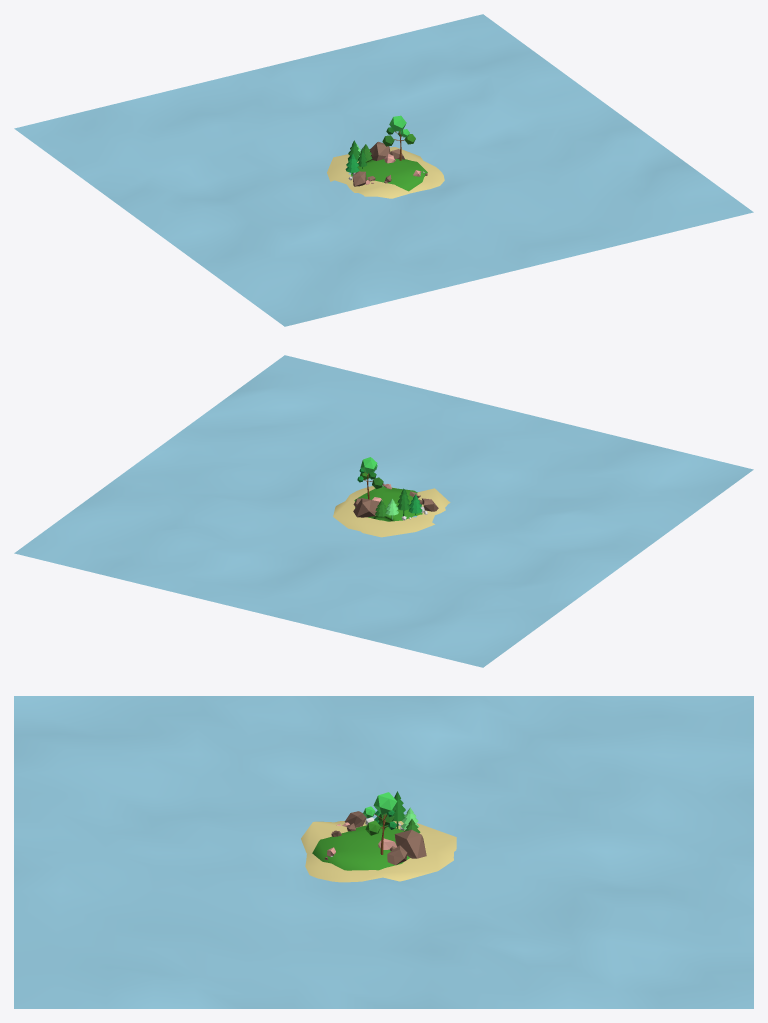
The model's file is uploads_files_2750458_Landscape.gltf.
3 renders of one model, top to bottom at view 1: azimuth 30°, elevation 25°; view 2: azimuth 150°, elevation 25°; view 3: azimuth 270°, elevation 25°, orthographic. The views are drawn at different scales.
Visible parts, largest first — view 1: Plane, Icosphere.027, Icosphere; view 2: Plane, Icosphere.027, Icosphere; view 3: Plane, Icosphere.027, Icosphere, Icosphere.002.
Part boxes in pixels (x1,y1,x2,y2): Plane: [14, 14, 753, 326]; Icosphere.027: [327, 147, 444, 198]; Icosphere: [351, 158, 427, 191]; Plane: [14, 355, 753, 667]; Icosphere.027: [333, 486, 450, 537]; Icosphere: [354, 486, 422, 521]; Plane: [14, 696, 753, 1008]; Icosphere.027: [301, 820, 456, 882]; Icosphere: [312, 825, 409, 870]; Icosphere.002: [394, 829, 426, 858].
Bounding box in the file's own units: 78.52 × 8.87 × 78.52.
